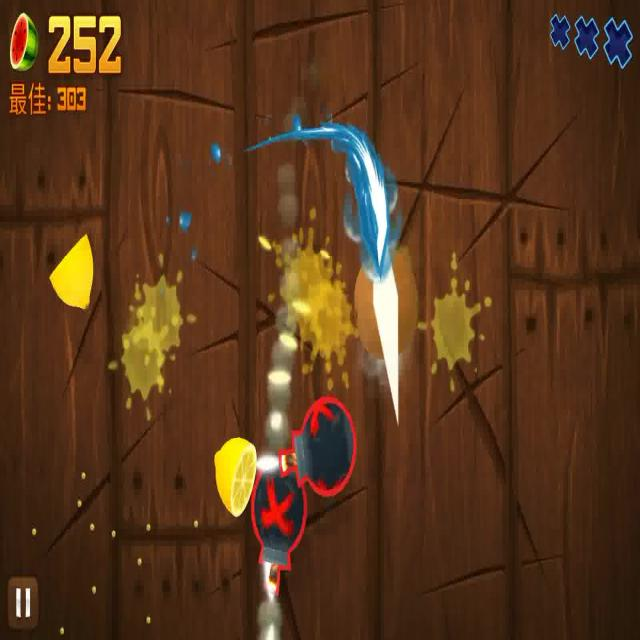bomb: (250, 454, 309, 596), (278, 397, 358, 493)
fruit: (355, 251, 421, 362), (49, 231, 95, 309), (215, 436, 256, 515)
